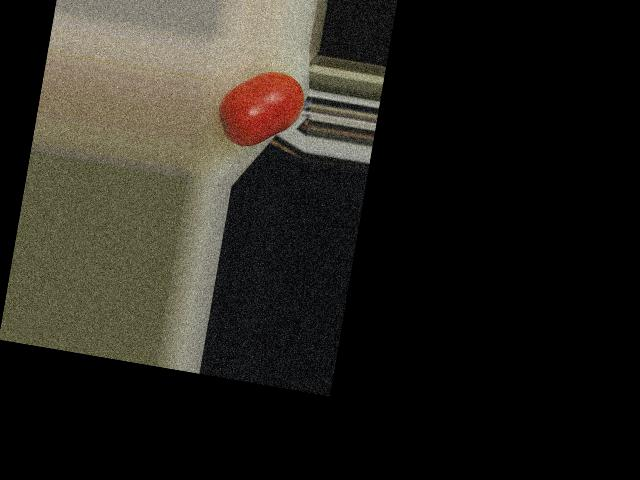tomato: (213, 63, 308, 155)
